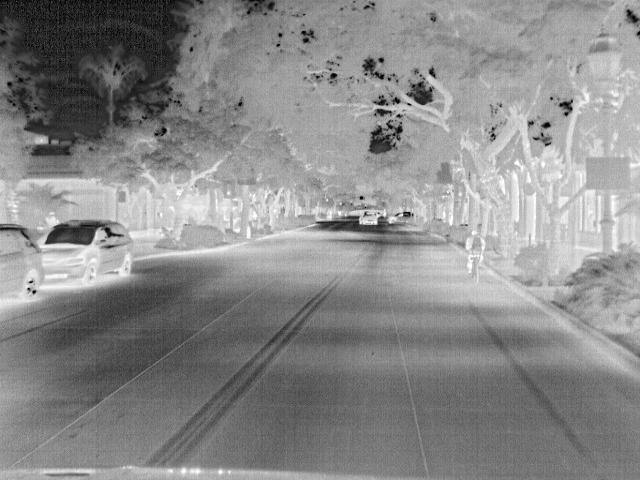car: (36, 217, 134, 286), (0, 221, 46, 306), (357, 209, 380, 228), (385, 211, 416, 225)
person: (465, 229, 485, 270)
